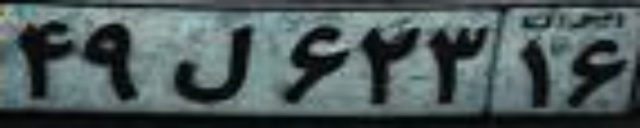1: (520, 37, 551, 107)
2: (360, 24, 420, 106)
3: (428, 24, 489, 103)
4: (15, 21, 74, 99)
6: (285, 24, 348, 106), (563, 37, 629, 109)
9: (79, 22, 137, 103)
lam: (171, 24, 250, 104)
